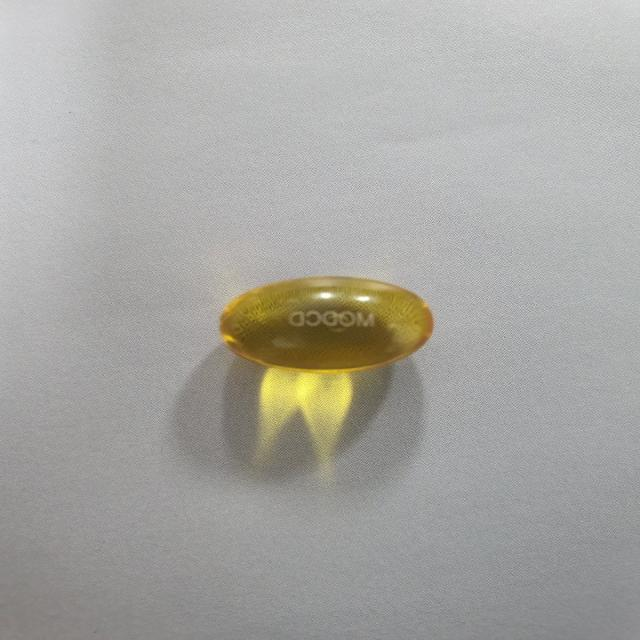pill: (207, 256, 451, 384)
